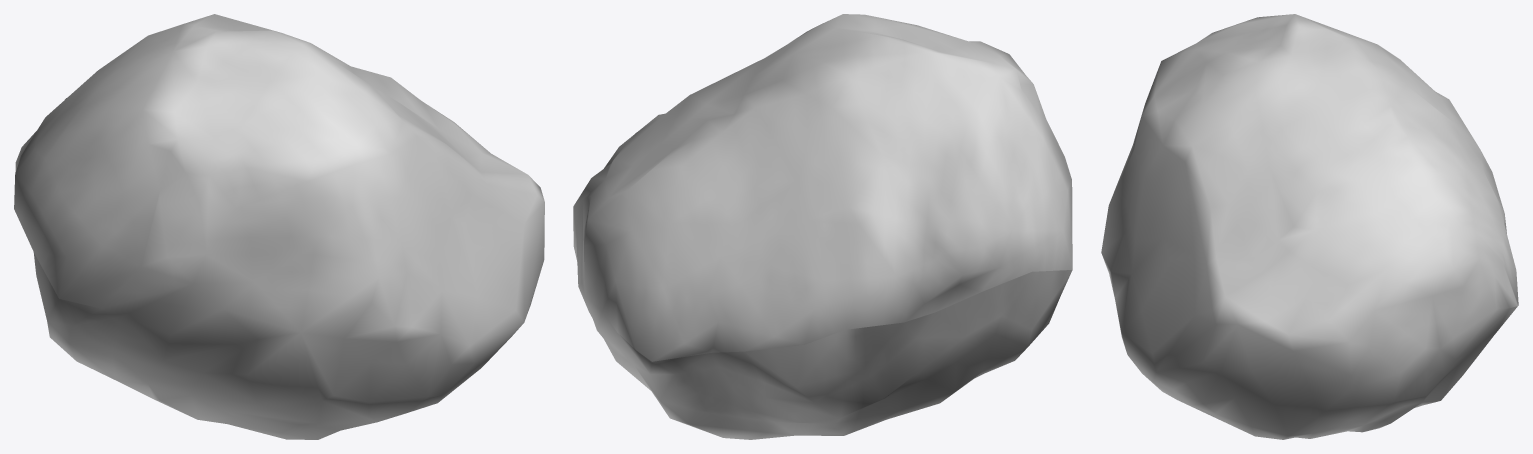
The model's file is Mesh_RockSmall_B.fbx.
The picture shows the model from 3 angles, left to right: view 1: azimuth 30°, elevation 25°; view 2: azimuth 150°, elevation 25°; view 3: azimuth 270°, elevation 25°; orthographic projection. The views are drawn at different scales.
Visible parts, largest first — view 1: SM_RockSmall_B_LOD0; view 2: SM_RockSmall_B_LOD0; view 3: SM_RockSmall_B_LOD0.
Boxes of the visible parts, <box> form: SM_RockSmall_B_LOD0: <box>14,14,544,439</box>; SM_RockSmall_B_LOD0: <box>573,14,1072,439</box>; SM_RockSmall_B_LOD0: <box>1101,14,1518,439</box>.
Size of the model in its own units: 40.17 by 35.6 by 32.92.
1 material, 1 textured.
